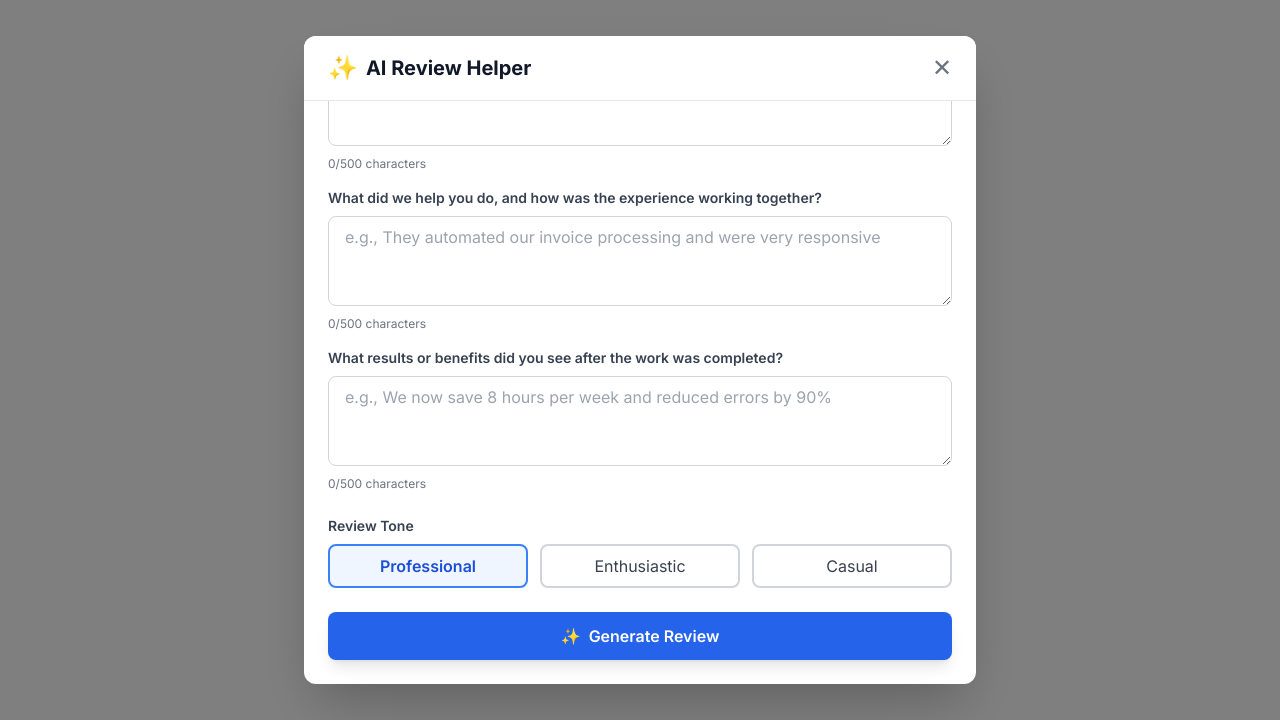
Test: AIReviewHelper › Review Generation › should decrement regenerations on each generate
This screenshot has width=1280, height=720.
(page scrolled)
# First generation
Click the button "✨ Generate Review": (640, 636) [328,612,952,660]
(page scrolled)
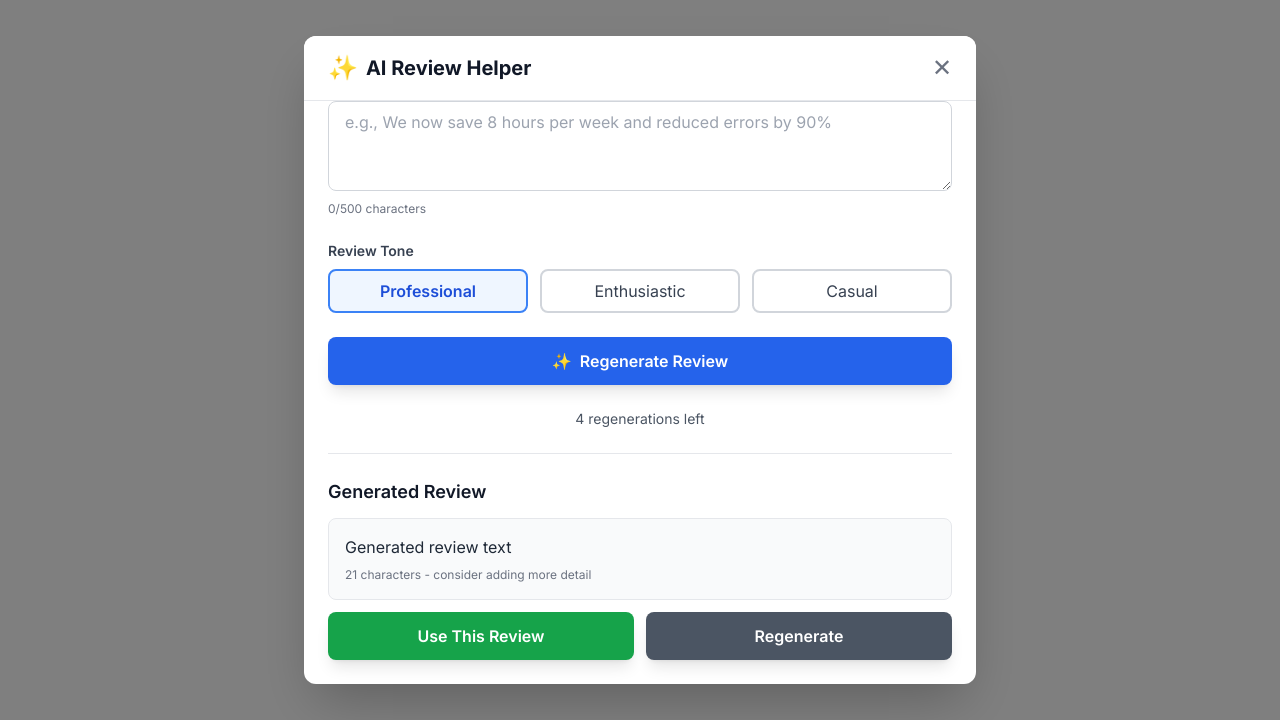
Expected: the text "4 regenerations left" is shown, [575,410,705,427]
# Second generation
Click the button "Regenerate": (799, 636) [646,612,952,660]
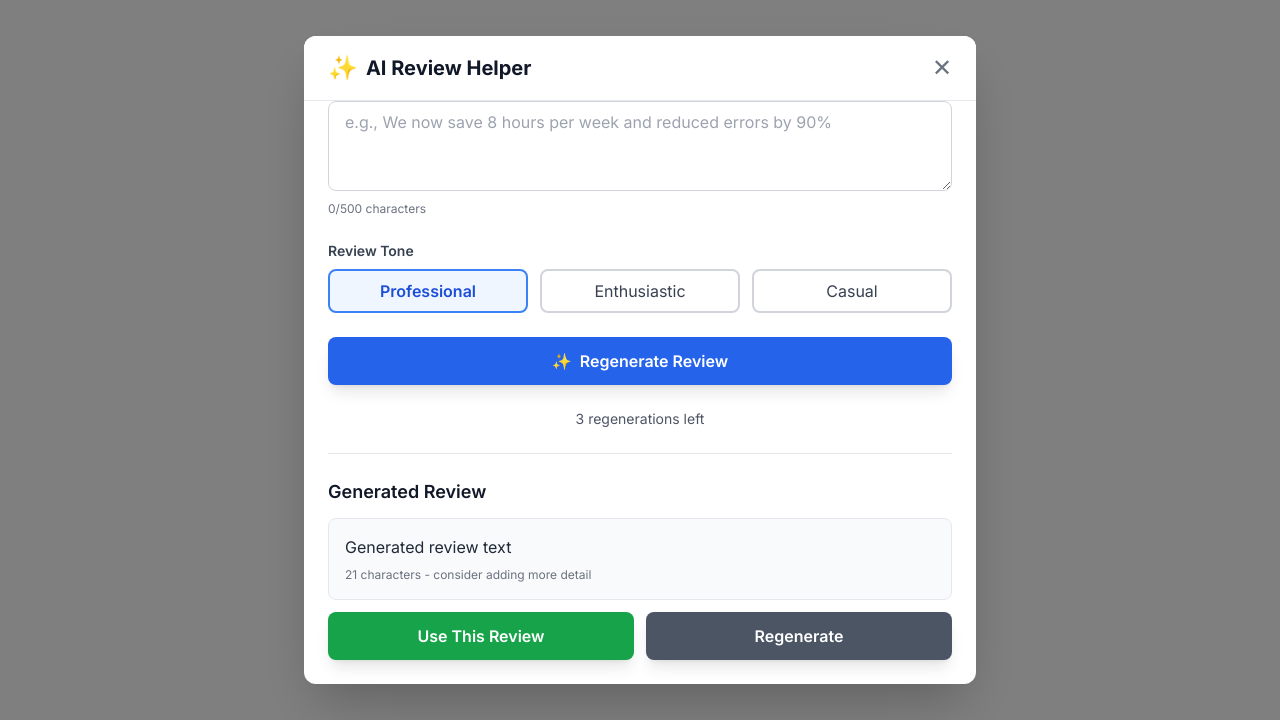
Expected: the text "3 regenerations left" is shown, [576,410,704,427]
